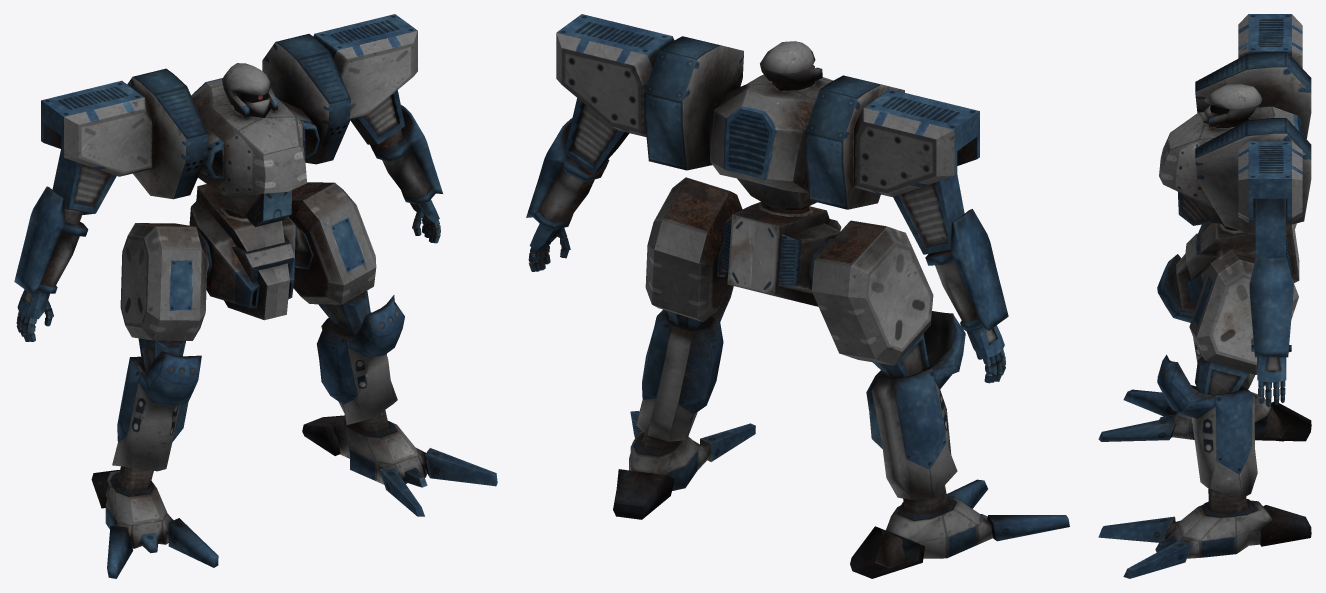
The picture shows the model from 3 angles, left to right: view 1: azimuth 30°, elevation 25°; view 2: azimuth 150°, elevation 25°; view 3: azimuth 270°, elevation 25°; orthographic projection. The views are drawn at different scales.
Parts seen in each view (by area): view 1: body; view 2: body; view 3: body.
Part boxes in pixels (x1=…): body: x1=14, y1=14, x2=497, y2=578; body: x1=526, y1=14, x2=1069, y2=578; body: x1=1098, y1=14, x2=1311, y2=578.
Bounding box in the file's own units: 1051 × 1019 × 490.
Materials: 1 (1 with a texture image).
